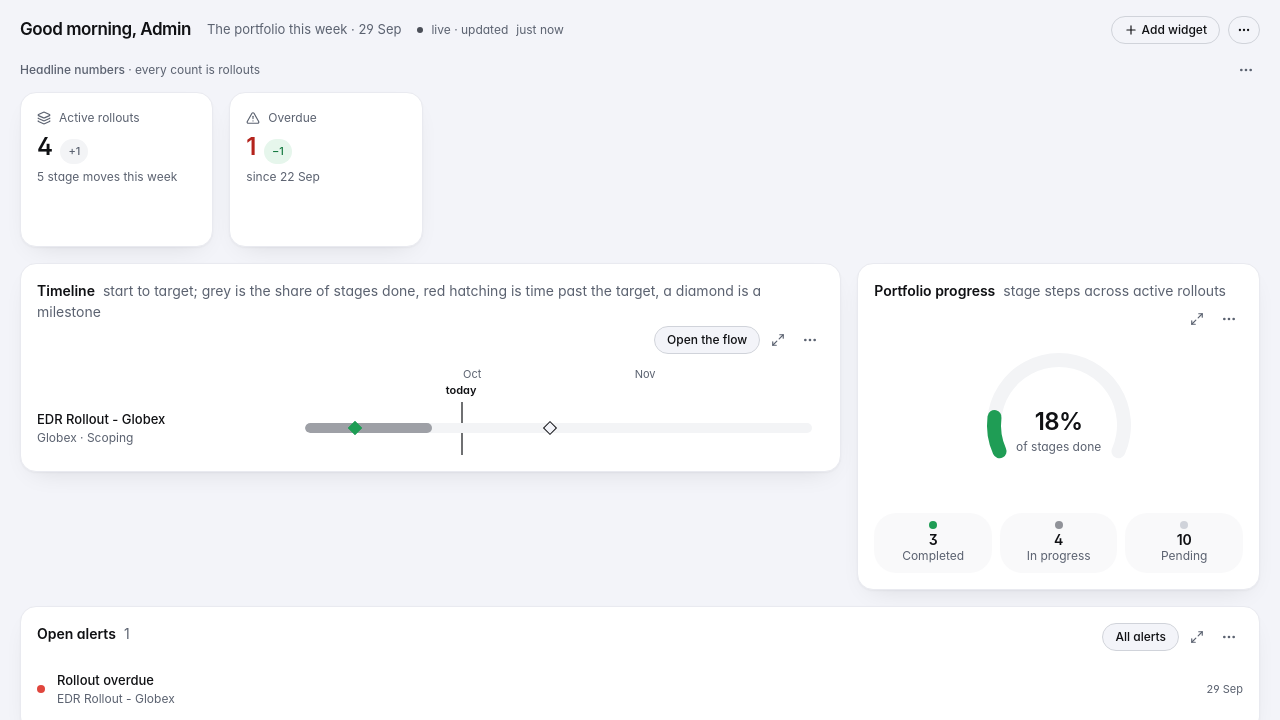
Test: Dashboard › a tile opens the rollouts behind its number; a widget expands with its data as a table
Click the button "Overdue 1 −1 since 22 Sep" at (326, 169), box x1=229 y1=92 x2=423 y2=246
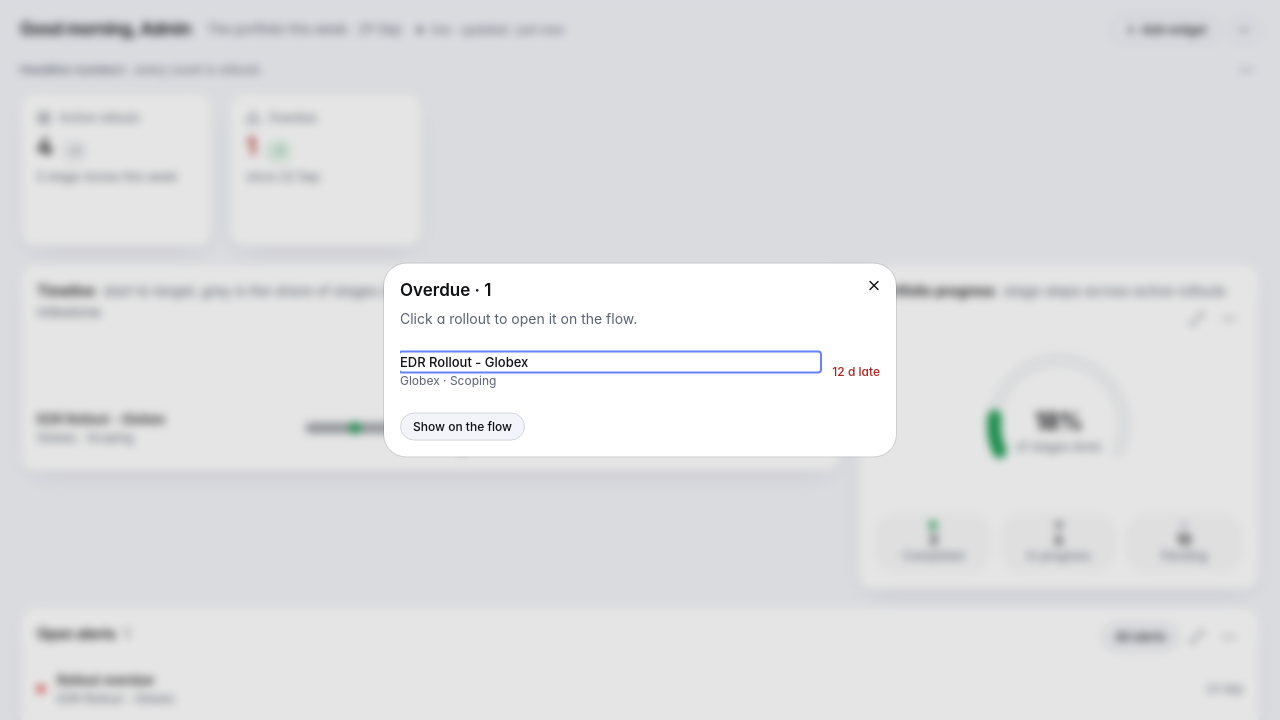
Now the heading "Overdue · 1" is shown, box x1=400 y1=280 x2=491 y2=300
Now the text "12 d late" is shown, box x1=832 y1=362 x2=880 y2=379
Press Escape
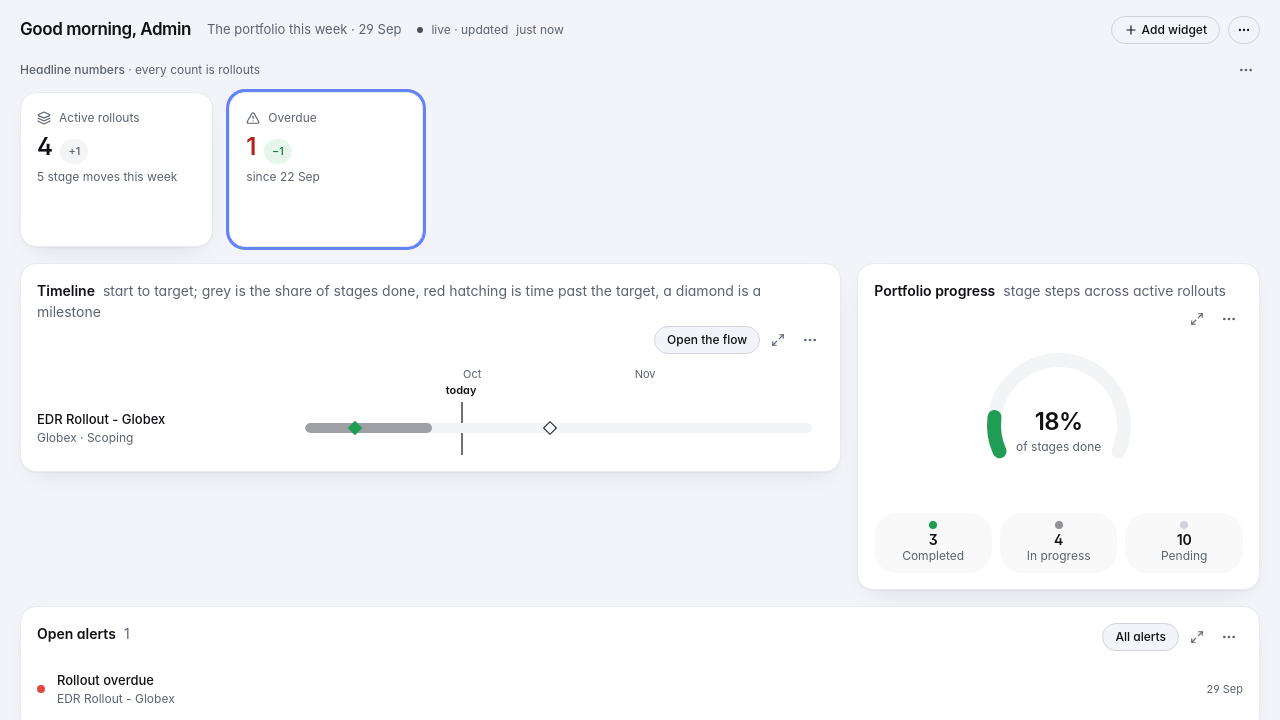
Click the button named "Expand Open alerts" at (1197, 636), box x1=1183 y1=622 x2=1211 y2=650
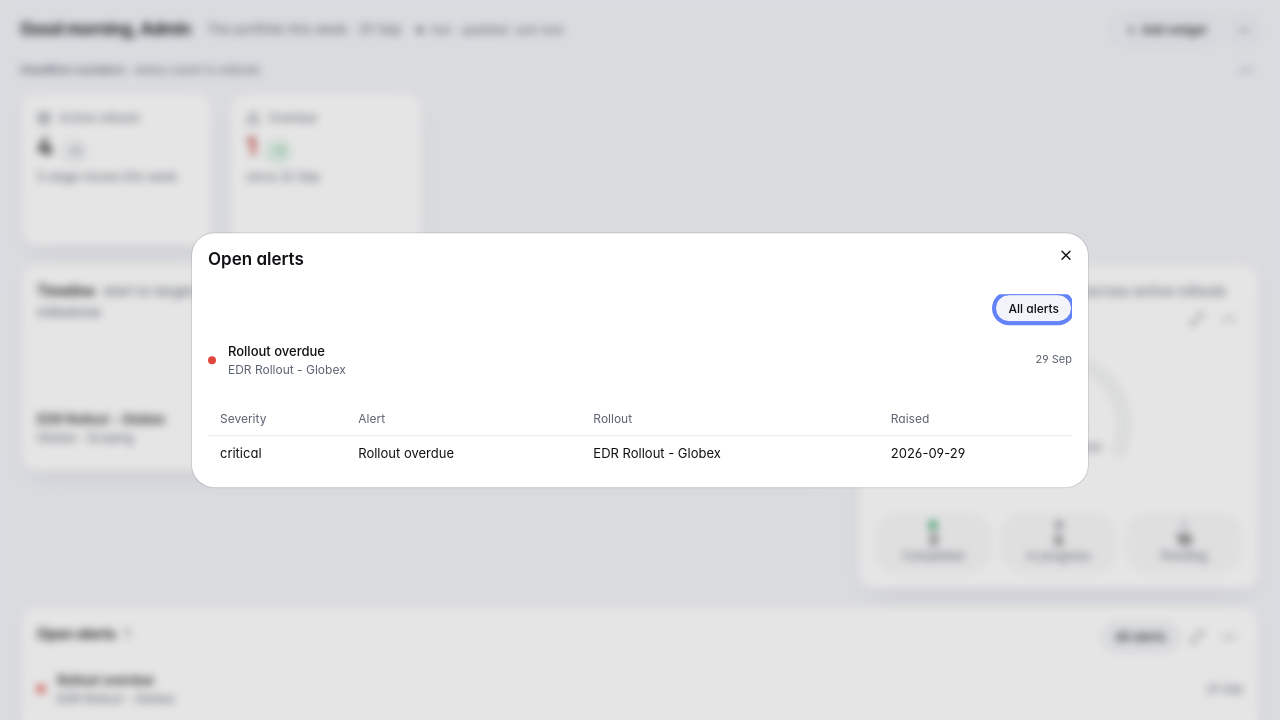
Now the column heading "Severity" is shown, box x1=208 y1=402 x2=346 y2=436
Now the cell "Rollout overdue" is shown, box x1=346 y1=436 x2=581 y2=471
